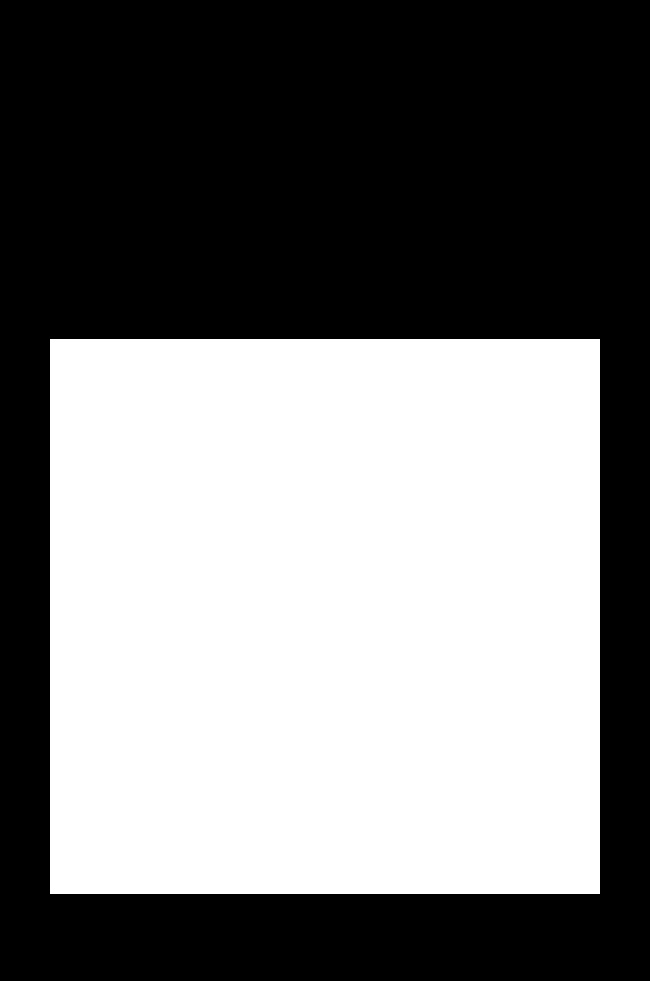table: (50, 339, 599, 893)
